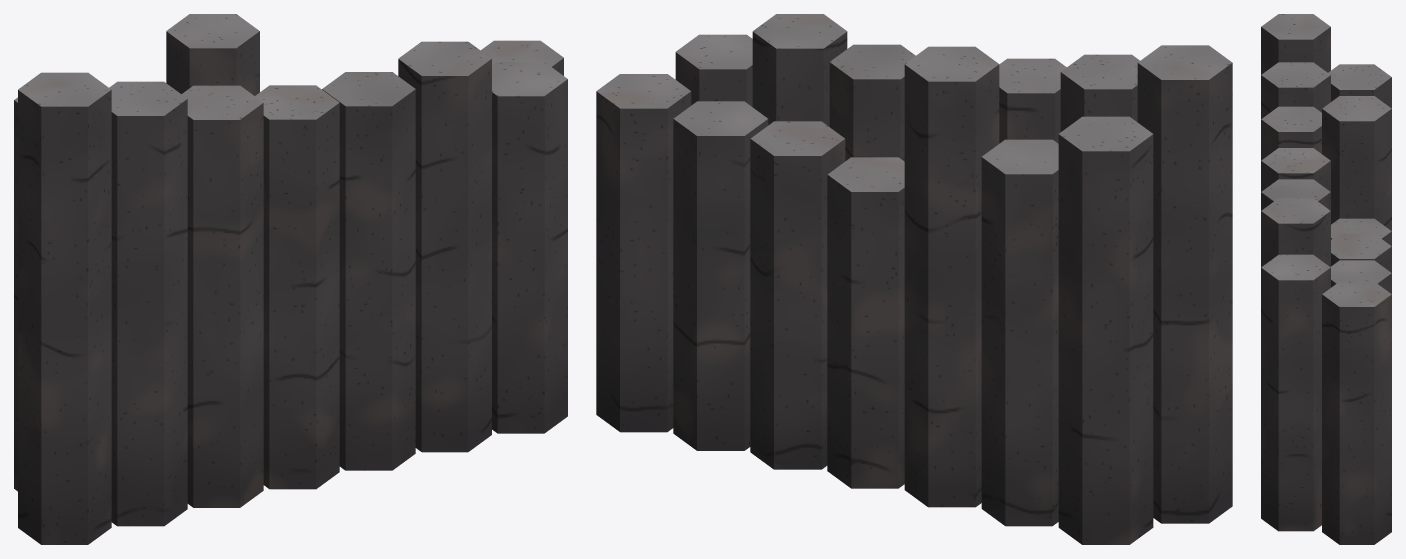
Rendered from basalt_b.glb.
3 renders of one model, left to right at view 1: azimuth 30°, elevation 25°; view 2: azimuth 150°, elevation 25°; view 3: azimuth 270°, elevation 25°, orthographic. The views are drawn at different scales.
Visible parts, largest first — view 1: Basalt; view 2: Basalt; view 3: Basalt.
Boxes of the visible parts, bbox=[...] form: Basalt: bbox=[14, 14, 567, 544]; Basalt: bbox=[596, 14, 1232, 544]; Basalt: bbox=[1261, 14, 1391, 544].
Bounding box in the file's own units: 3.34 × 2.48 × 0.9.
Materials: 1 (1 with a texture image).
